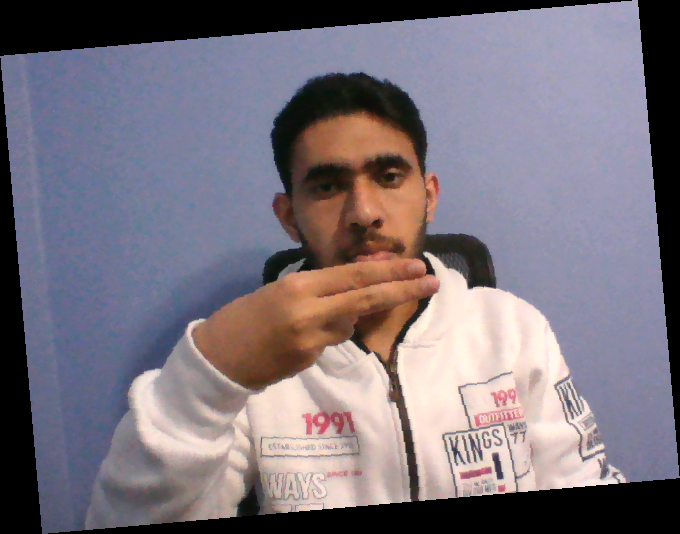H: (159, 256, 444, 401)
